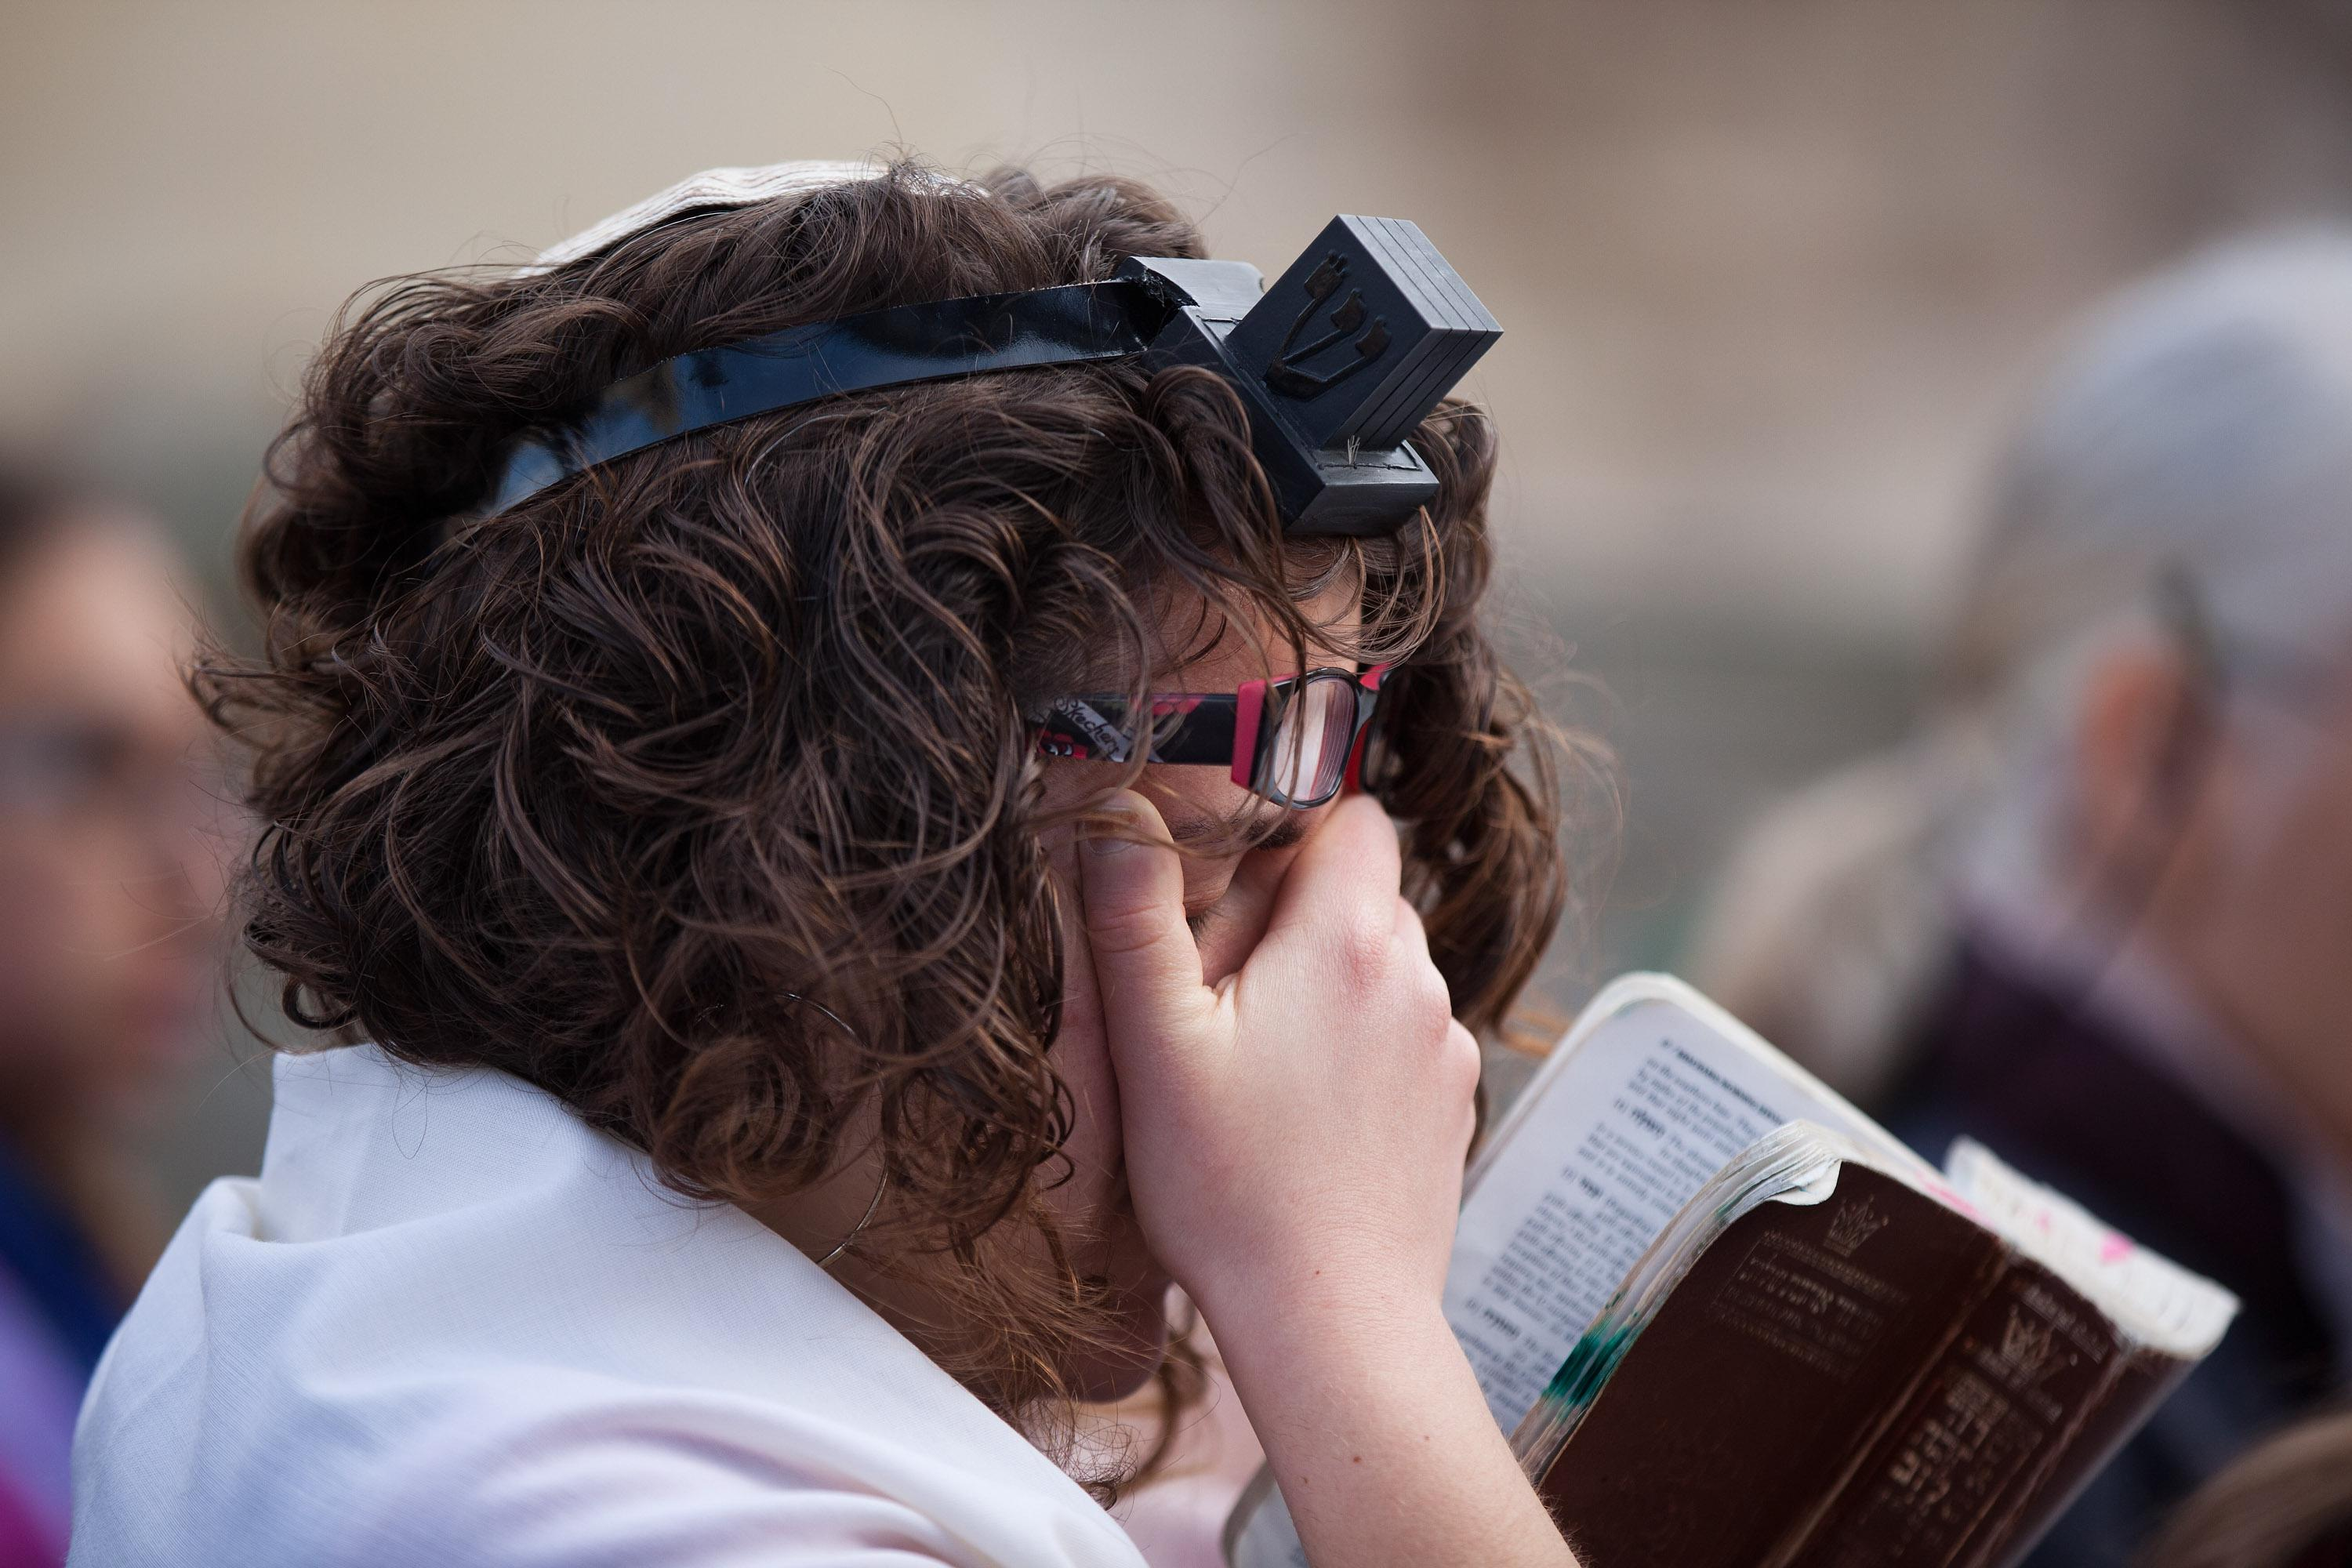tefillin: (1123, 213, 1503, 536)
